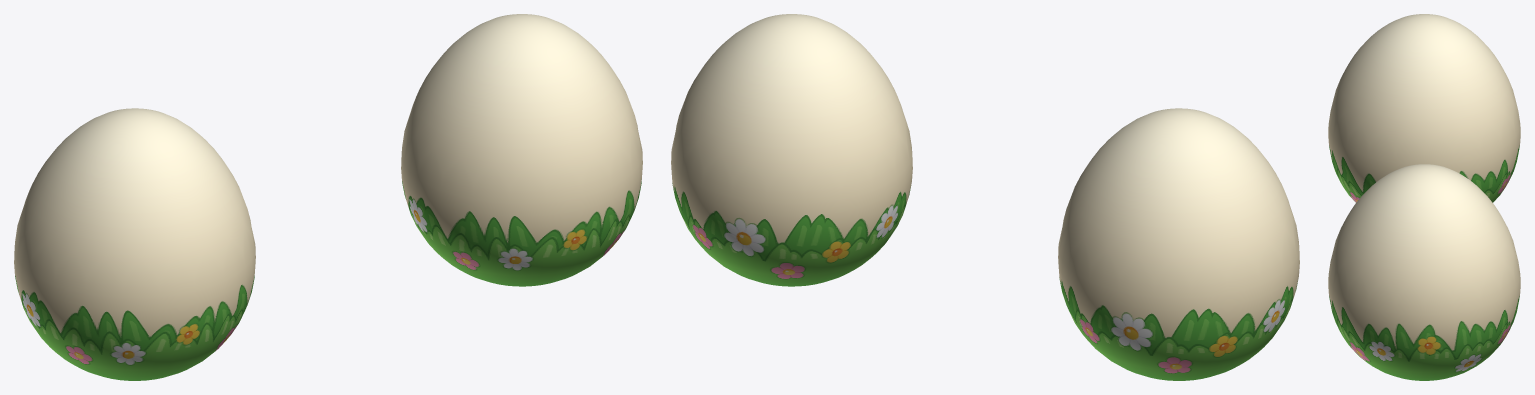
File: OeufPrairie.obj
The picture shows the model from 3 angles, left to right: view 1: azimuth 30°, elevation 25°; view 2: azimuth 150°, elevation 25°; view 3: azimuth 270°, elevation 25°; orthographic projection. The views are drawn at different scales.
Parts seen in each view (by area): view 1: Egg, ShellTop, ShellBottom; view 2: Egg, ShellTop, ShellBottom; view 3: Egg, ShellTop, ShellBottom.
Part boxes in pixels (bbox=[...]): Egg: bbox=[14, 108, 255, 380]; ShellTop: bbox=[405, 14, 639, 185]; ShellBottom: bbox=[401, 116, 642, 286]; Egg: bbox=[1058, 108, 1299, 380]; ShellTop: bbox=[674, 14, 908, 185]; ShellBottom: bbox=[671, 116, 912, 286]; Egg: bbox=[1328, 14, 1520, 202]; ShellTop: bbox=[1331, 164, 1517, 300]; ShellBottom: bbox=[1328, 253, 1520, 380].
Size of the model in its own units: 12.33 by 5 by 4.33.
1 material, 1 textured.
